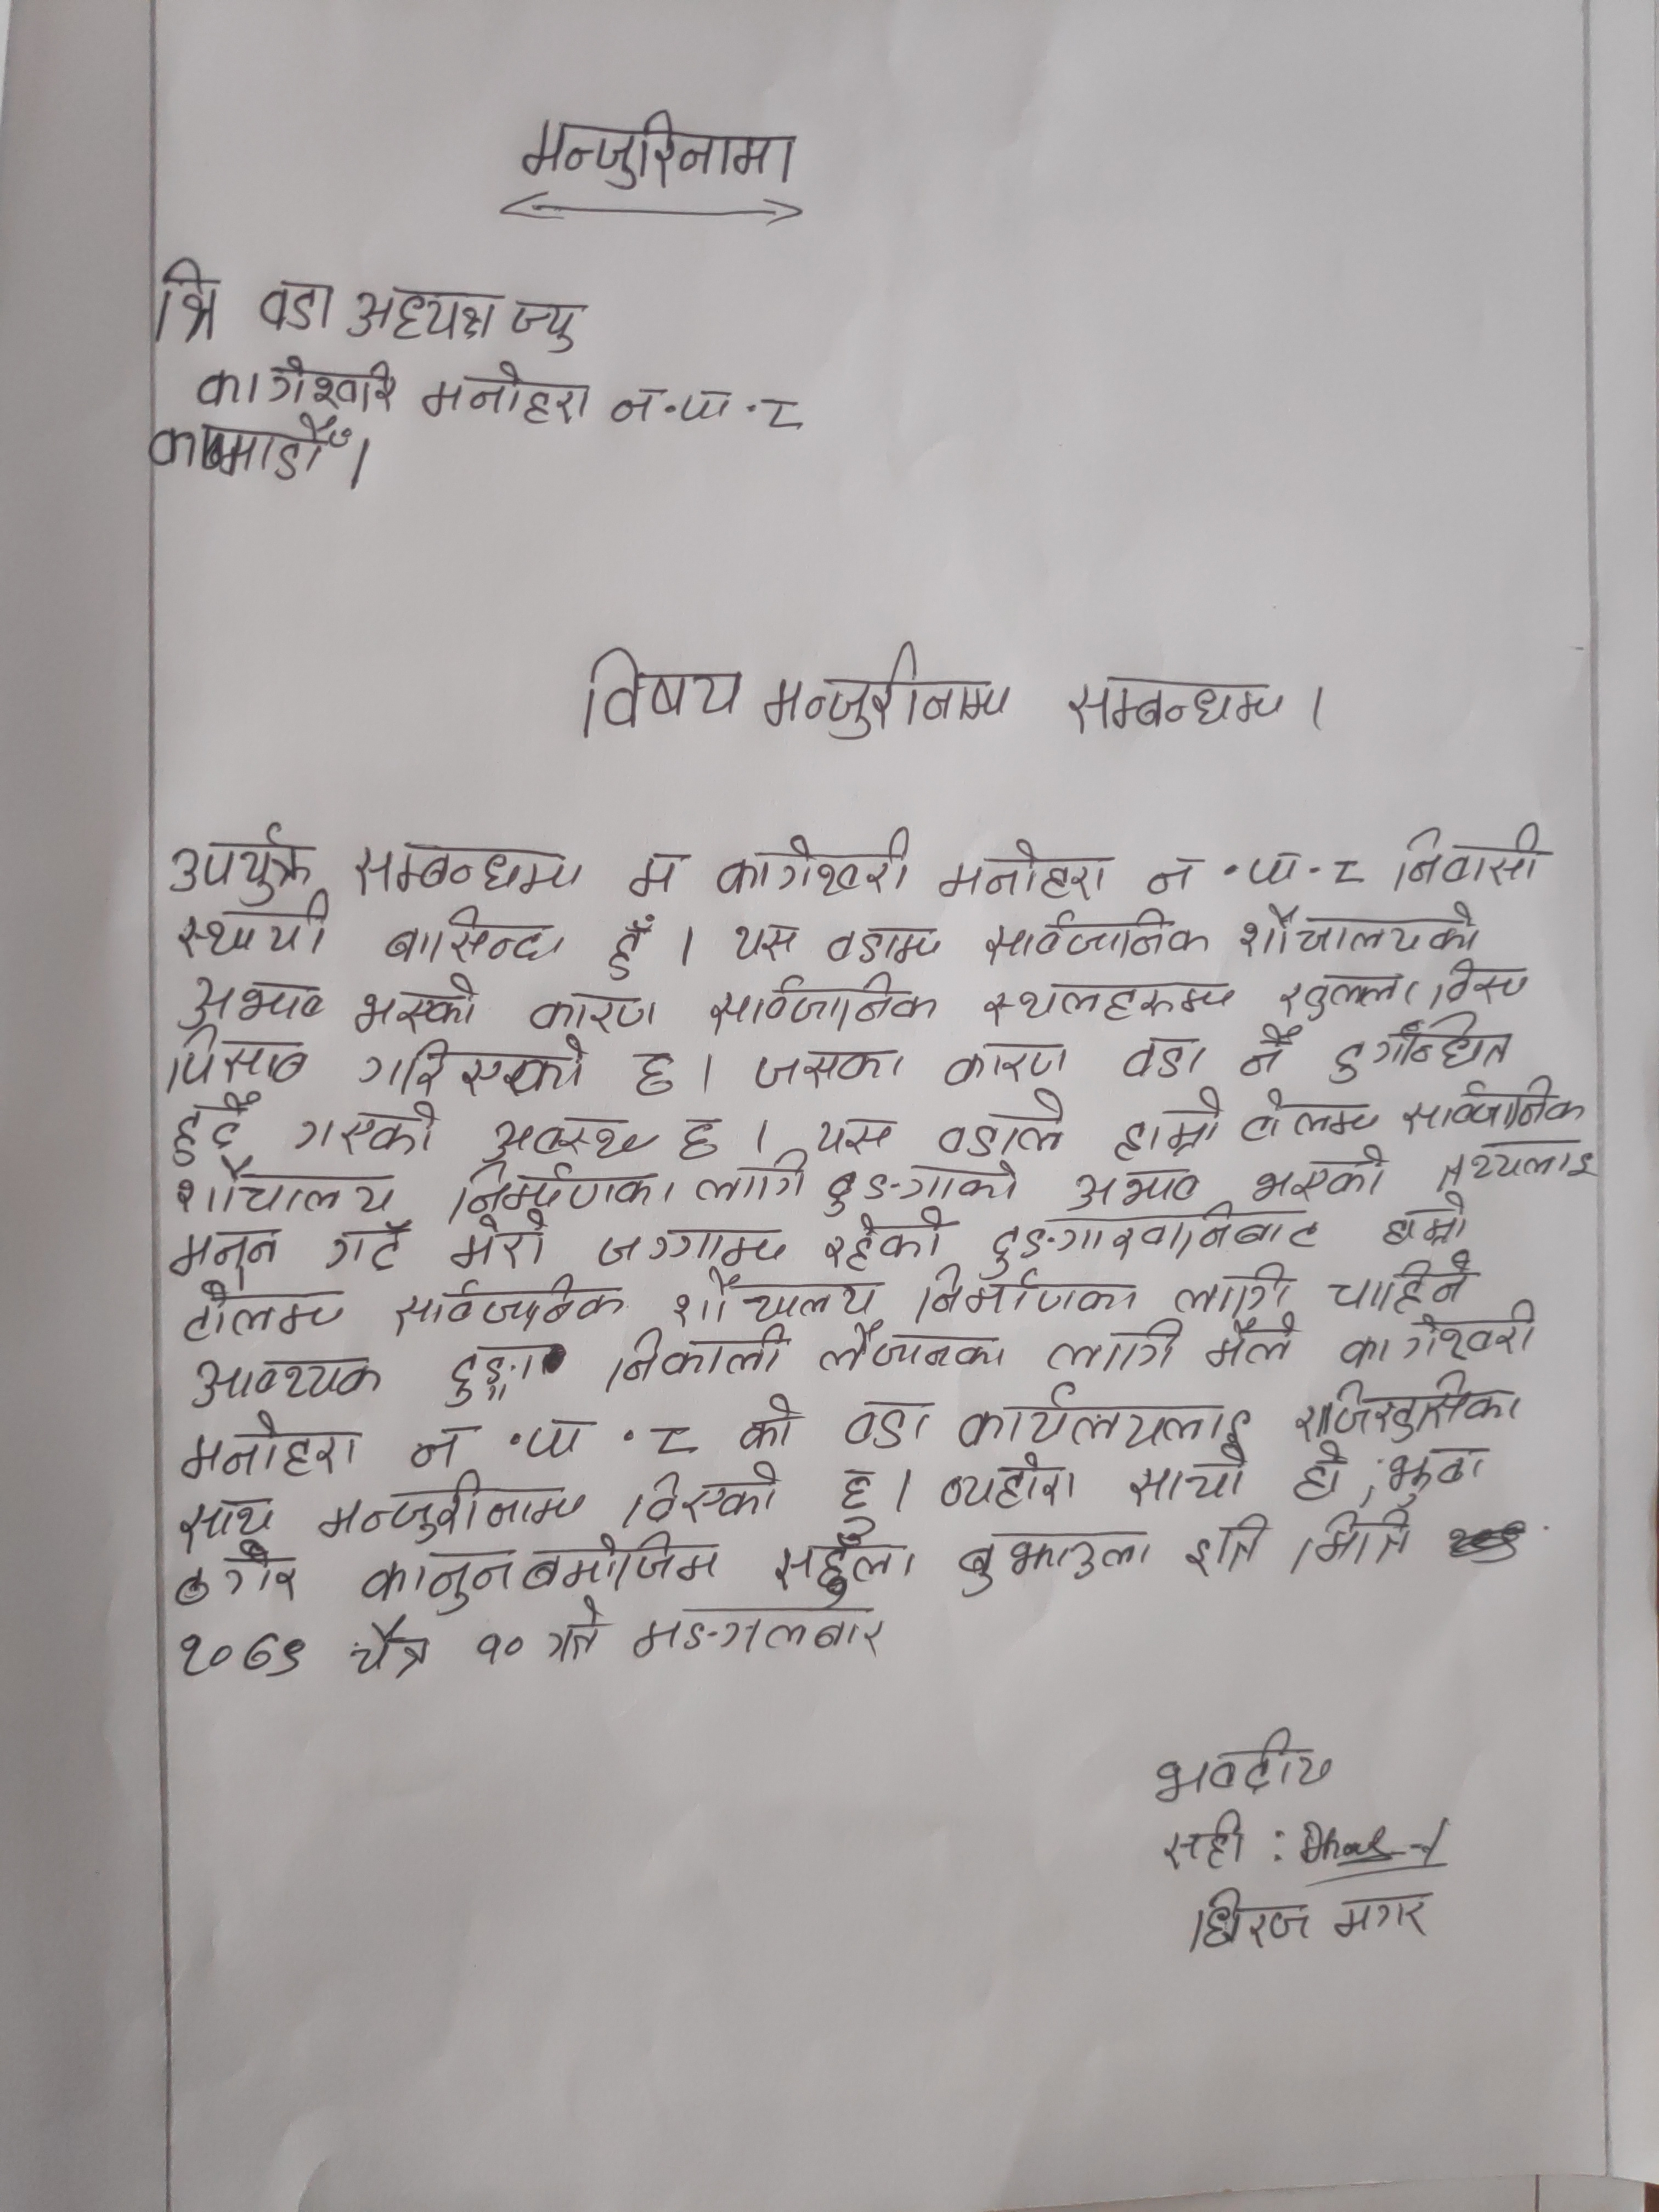text: (760, 636, 1012, 738), (514, 111, 805, 199), (361, 1541, 723, 1609), (953, 1385, 1244, 1449), (1065, 662, 1290, 744), (979, 1219, 1328, 1271), (612, 1597, 901, 1660), (312, 1480, 591, 1543), (1290, 1379, 1530, 1449), (364, 1031, 592, 1104), (1150, 1723, 1351, 1799), (338, 841, 587, 902), (572, 648, 746, 735), (950, 1526, 1159, 1597), (173, 1406, 361, 1484), (153, 413, 350, 488), (1234, 895, 1481, 954), (713, 824, 915, 895), (708, 970, 943, 1029), (1319, 1015, 1541, 1078), (981, 906, 1213, 965), (976, 975, 1234, 1028), (1333, 1306, 1542, 1371), (173, 1158, 399, 1217), (599, 1331, 809, 1393), (929, 836, 1121, 904), (197, 355, 408, 416), (380, 1280, 626, 1332), (382, 902, 568, 970), (186, 1353, 392, 1414), (453, 1158, 683, 1212), (1387, 819, 1553, 894), (167, 824, 315, 907), (416, 359, 591, 428), (622, 1458, 791, 1529), (1399, 1075, 1589, 1137), (915, 1270, 1150, 1320), (662, 1270, 885, 1322), (396, 1414, 601, 1470), (176, 1284, 352, 1348), (819, 1324, 1019, 1379), (821, 1160, 1026, 1214), (769, 1540, 922, 1609), (1147, 836, 1314, 897), (931, 1089, 1072, 1160), (1033, 1312, 1185, 1378), (291, 1097, 444, 1162), (173, 906, 333, 967), (596, 1223, 798, 1270), (162, 1028, 310, 1090), (936, 1449, 1087, 1510), (174, 1543, 307, 1613), (356, 970, 486, 1038), (343, 287, 502, 343), (1114, 1087, 1230, 1162), (1188, 1885, 1314, 1952), (601, 371, 749, 428), (479, 1113, 652, 1162), (819, 1209, 957, 1270), (171, 1627, 308, 1688), (148, 254, 228, 355), (523, 982, 669, 1036), (1159, 1261, 1305, 1315), (1246, 1151, 1385, 1207), (1246, 1089, 1380, 1146), (174, 977, 331, 1026), (1443, 1136, 1605, 1183), (1328, 1259, 1473, 1312), (1293, 1507, 1417, 1568), (164, 1097, 263, 1170), (1272, 965, 1394, 1024), (1124, 1454, 1253, 1510), (690, 1150, 812, 1207), (1382, 1440, 1490, 1505), (749, 1049, 913, 1090), (437, 1343, 551, 1402), (1368, 1184, 1469, 1251), (335, 1616, 430, 1686), (943, 1038, 1075, 1087), (167, 1221, 286, 1275), (1162, 1810, 1251, 1881), (1072, 1158, 1197, 1209), (171, 1500, 289, 1552), (824, 923, 953, 970), (448, 1221, 563, 1273), (498, 291, 592, 354), (251, 270, 335, 340), (1324, 1888, 1429, 1944), (1201, 1320, 1302, 1378), (833, 1393, 929, 1453), (1185, 1517, 1272, 1581), (1427, 953, 1530, 1007), (537, 1597, 606, 1669), (826, 1465, 889, 1538), (317, 1230, 408, 1280), (1298, 1437, 1359, 1510), (1114, 1033, 1208, 1080), (615, 1050, 688, 1108), (807, 1109, 903, 1151), (606, 914, 664, 982), (734, 1395, 796, 1456), (1241, 1026, 1300, 1087), (627, 848, 690, 904), (460, 1630, 537, 1674), (725, 920, 803, 958), (758, 390, 812, 439), (648, 1420, 708, 1460), (1324, 855, 1377, 900), (678, 1115, 721, 1169)
